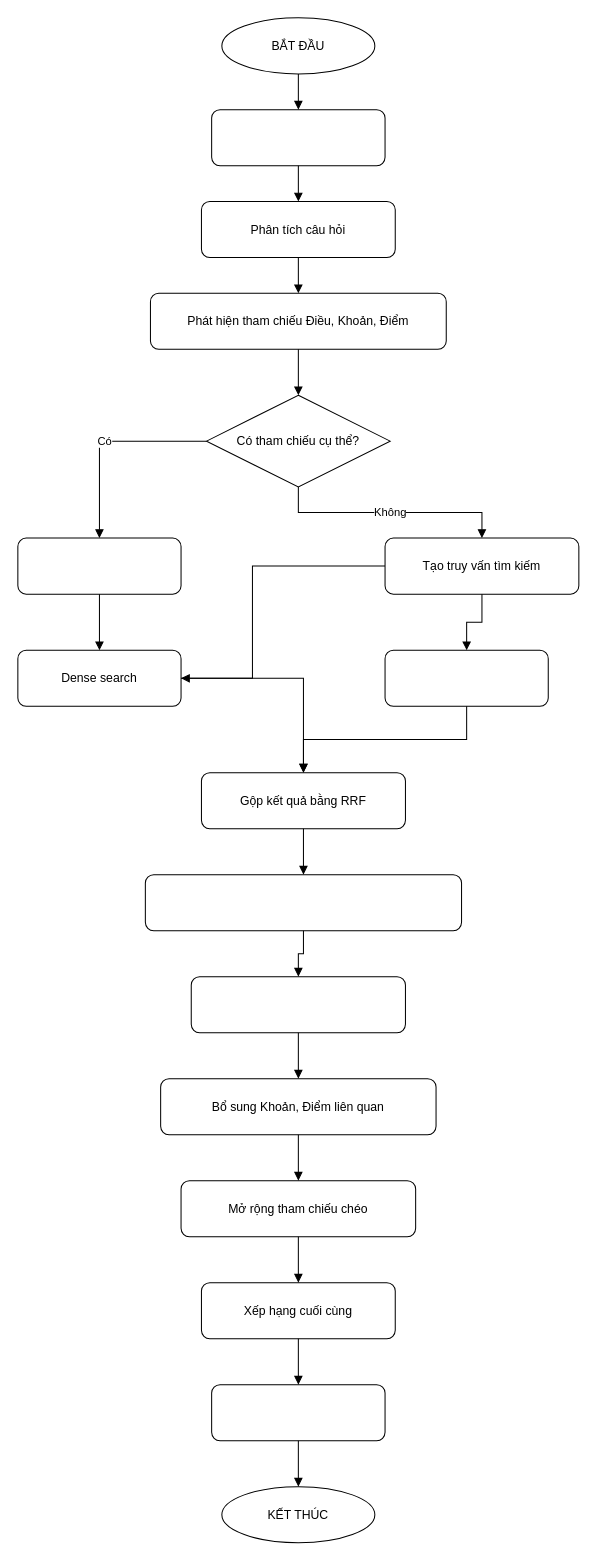
Image size: 597x1561. Some labels were removed from this diagram. The centre of each missing label's shape, as x and y in pixels:
Exact lookup: the point at 99,565
Giới hạn kết quả trùng theo văn bản và Điều: the point at 303,902
Kiểm tra ngày hiệu lực: the point at 297,1004
Nhận câu hỏi: the point at 298,137
Sparse BM25: the point at 466,677
Trả tập căn cứ: the point at 298,1412
